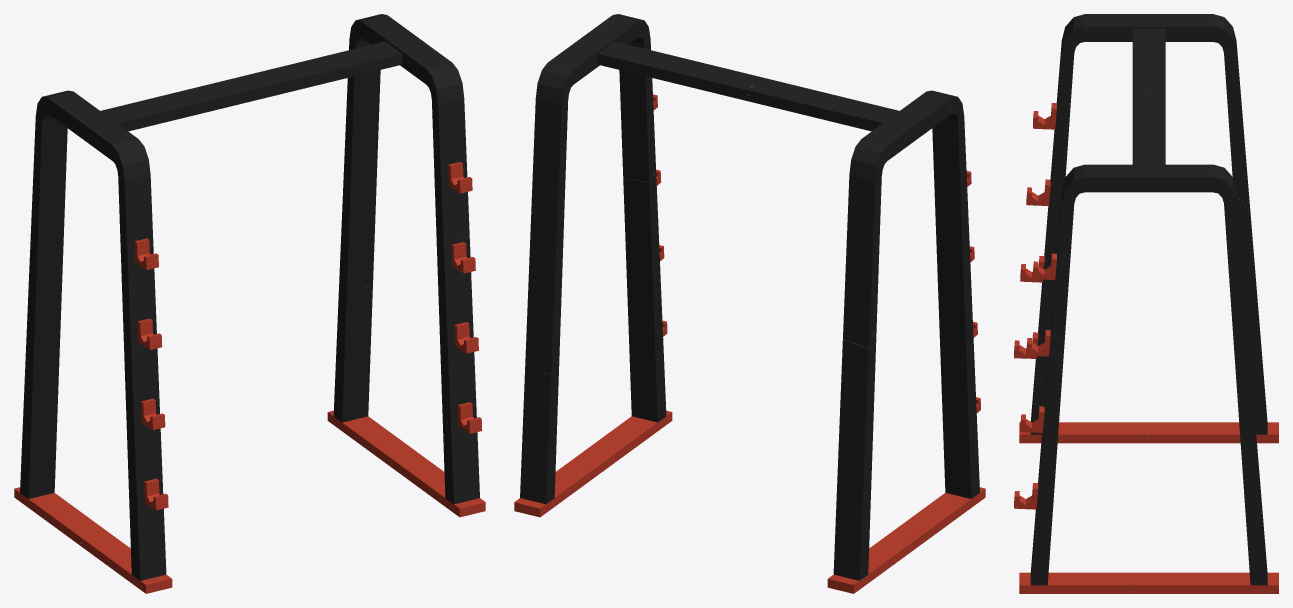
Rendered from Gia_ta_DEST.fbx.
The picture shows the model from 3 angles, left to right: view 1: azimuth 30°, elevation 25°; view 2: azimuth 150°, elevation 25°; view 3: azimuth 270°, elevation 25°; orthographic projection.
Visible parts, largest first — view 1: Mesh_gia_ta_2.004_cell, Mesh_gia_ta_2.008_cell.002, Mesh_gia_ta_2.008_cell.003, Mesh_gia_ta_2.008_cell, Mesh_gia_ta_2.004_cell.001, Mesh_gia_ta_2.004_cell.003, Mesh_gia_ta_2.016_cell.001, Mesh_gia_ta_2.016_cell, Mesh_gia_ta_2.002_cell, Mesh_gia_ta_2.001_cell.001, Mesh_gia_ta_2.001_cell, Mesh_gia_ta_2.002_cell.001; view 2: Mesh_gia_ta_2.004_cell, Mesh_gia_ta_2.008_cell.002, Mesh_gia_ta_2.008_cell, Mesh_gia_ta_2.004_cell.001, Mesh_gia_ta_2.008_cell.003, Mesh_gia_ta_2.004_cell.003, Mesh_gia_ta_2.016_cell.001, Mesh_gia_ta_2.016_cell, Mesh_gia_ta_2.002_cell, Mesh_gia_ta_2.001_cell.001, Mesh_gia_ta_2.001_cell, Mesh_gia_ta_2.002_cell.001; view 3: Mesh_gia_ta_2.004_cell, Mesh_gia_ta_2.008_cell, Mesh_gia_ta_2.008_cell.002, Mesh_gia_ta_2.004_cell.001, Mesh_gia_ta_2.008_cell.003, Mesh_gia_ta_2.002_cell, Mesh_gia_ta_2.001_cell.001, Mesh_gia_ta_2.016_cell.001, Mesh_gia_ta_2.002_cell.001, Mesh_gia_ta_2.004_cell.003, Mesh_gia_ta_2.016_cell, Mesh_gia_ta_2.001_cell (+6 smaller).
Boxes of the visible parts, x1,y1,x2,y2 form: Mesh_gia_ta_2.004_cell: (338, 14, 469, 292); Mesh_gia_ta_2.008_cell.002: (108, 140, 166, 580); Mesh_gia_ta_2.008_cell.003: (20, 253, 63, 498); Mesh_gia_ta_2.008_cell: (29, 90, 138, 273); Mesh_gia_ta_2.004_cell.001: (436, 238, 479, 504); Mesh_gia_ta_2.004_cell.003: (333, 285, 372, 422); Mesh_gia_ta_2.016_cell.001: (235, 41, 402, 100); Mesh_gia_ta_2.016_cell: (101, 78, 255, 131); Mesh_gia_ta_2.002_cell: (327, 410, 427, 474); Mesh_gia_ta_2.001_cell.001: (14, 487, 106, 545); Mesh_gia_ta_2.001_cell: (81, 531, 172, 593); Mesh_gia_ta_2.002_cell.001: (401, 459, 485, 517); Mesh_gia_ta_2.004_cell: (525, 14, 655, 373); Mesh_gia_ta_2.008_cell.002: (928, 90, 979, 498); Mesh_gia_ta_2.008_cell: (843, 91, 953, 348); Mesh_gia_ta_2.004_cell.001: (623, 170, 666, 422); Mesh_gia_ta_2.008_cell.003: (833, 326, 876, 580); Mesh_gia_ta_2.004_cell.003: (520, 358, 559, 504); Mesh_gia_ta_2.016_cell.001: (597, 41, 760, 101); Mesh_gia_ta_2.016_cell: (748, 77, 898, 131); Mesh_gia_ta_2.002_cell: (514, 448, 613, 517); Mesh_gia_ta_2.001_cell.001: (827, 530, 920, 593); Mesh_gia_ta_2.001_cell: (894, 487, 985, 544); Mesh_gia_ta_2.002_cell.001: (588, 410, 672, 463); Mesh_gia_ta_2.004_cell: (1051, 164, 1257, 462); Mesh_gia_ta_2.008_cell: (1082, 14, 1249, 209); Mesh_gia_ta_2.008_cell.002: (1030, 15, 1096, 434); Mesh_gia_ta_2.004_cell.001: (1030, 326, 1064, 585); Mesh_gia_ta_2.008_cell.003: (1237, 197, 1267, 434); Mesh_gia_ta_2.002_cell: (1133, 572, 1278, 593); Mesh_gia_ta_2.001_cell.001: (1147, 422, 1278, 443); Mesh_gia_ta_2.016_cell.001: (1132, 94, 1165, 164); Mesh_gia_ta_2.002_cell.001: (1019, 572, 1134, 593); Mesh_gia_ta_2.004_cell.003: (1241, 449, 1267, 585); Mesh_gia_ta_2.016_cell: (1132, 28, 1165, 96); Mesh_gia_ta_2.001_cell: (1019, 422, 1148, 443).
Bounding box in the file's own units: 12.12 × 14.46 × 8.32.
